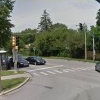crosswalk: (31, 66, 94, 77)
